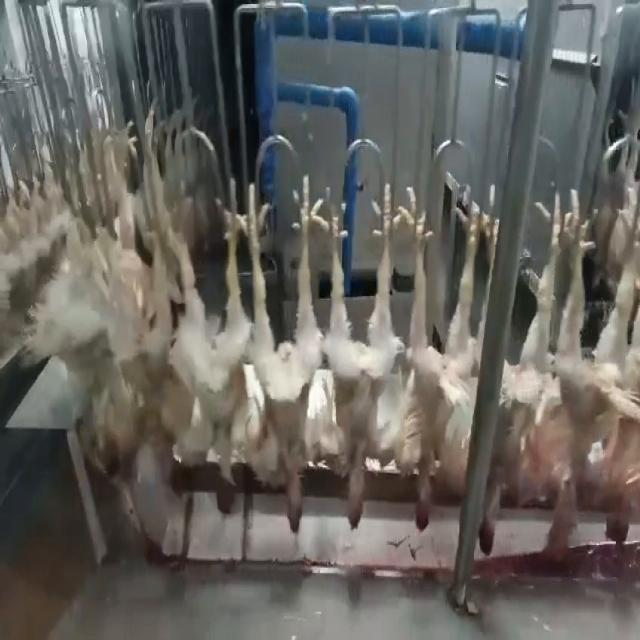chicken: (475, 190, 582, 574), (396, 186, 485, 532), (158, 160, 240, 518), (318, 180, 393, 536), (247, 166, 317, 539), (581, 201, 639, 552), (80, 188, 142, 485)
